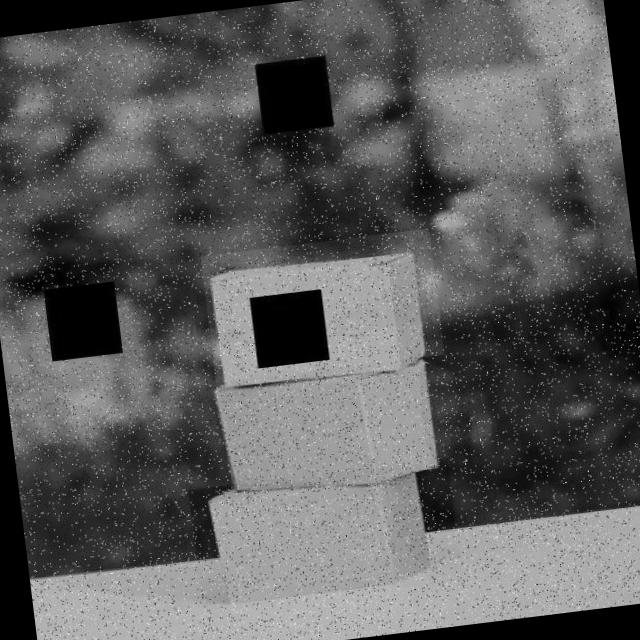box: (200, 228, 448, 408), (187, 458, 462, 612), (194, 354, 461, 512)
